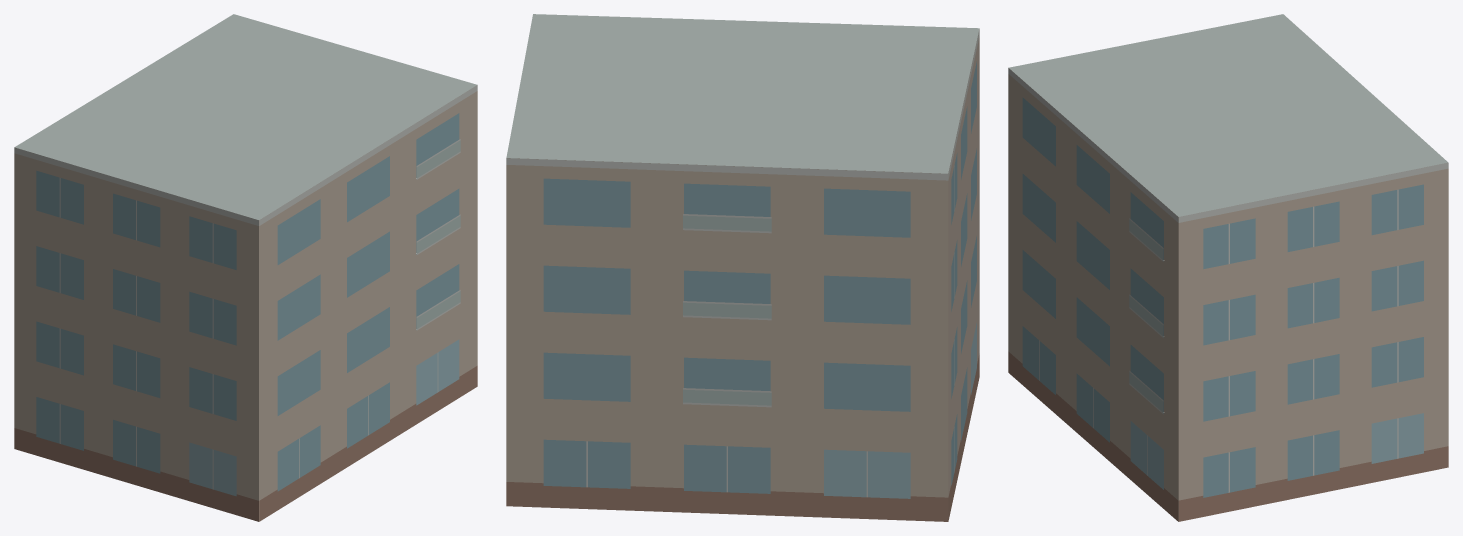
File: survey-upis-32739131.glb
The picture shows the model from 3 angles, left to right: view 1: azimuth 30°, elevation 25°; view 2: azimuth 150°, elevation 25°; view 3: azimuth 270°, elevation 25°; orthographic projection. The views are drawn at different scales.
Parts seen in each view (by area): view 1: survey-upis-32739131.tmp; view 2: survey-upis-32739131.tmp; view 3: survey-upis-32739131.tmp.
Part boxes in pixels (x1=…): survey-upis-32739131.tmp: x1=14, y1=14, x2=477, y2=521; survey-upis-32739131.tmp: x1=506, y1=14, x2=979, y2=521; survey-upis-32739131.tmp: x1=1008, y1=14, x2=1448, y2=521.
Size of the model in its own units: 17.72 by 12.4 by 16.23.
